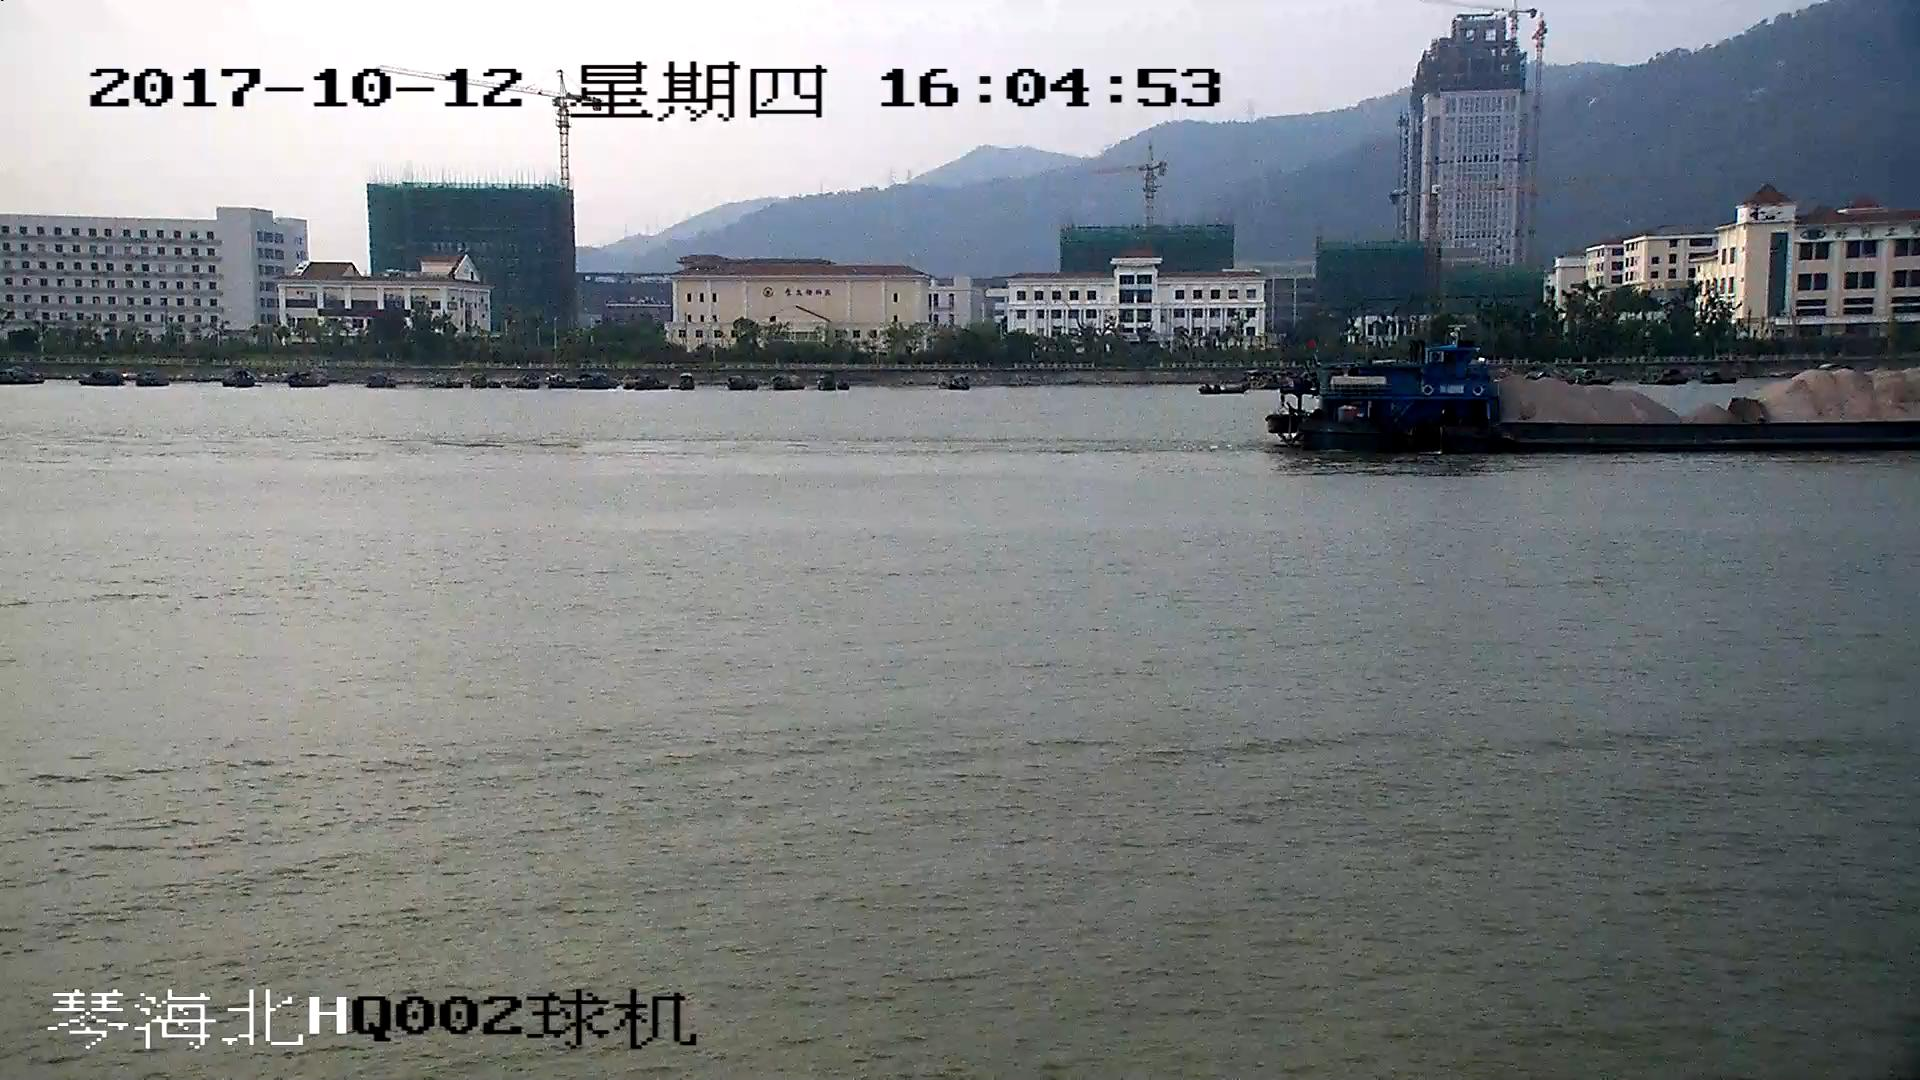ore carrier: (1273, 336, 1920, 456)
